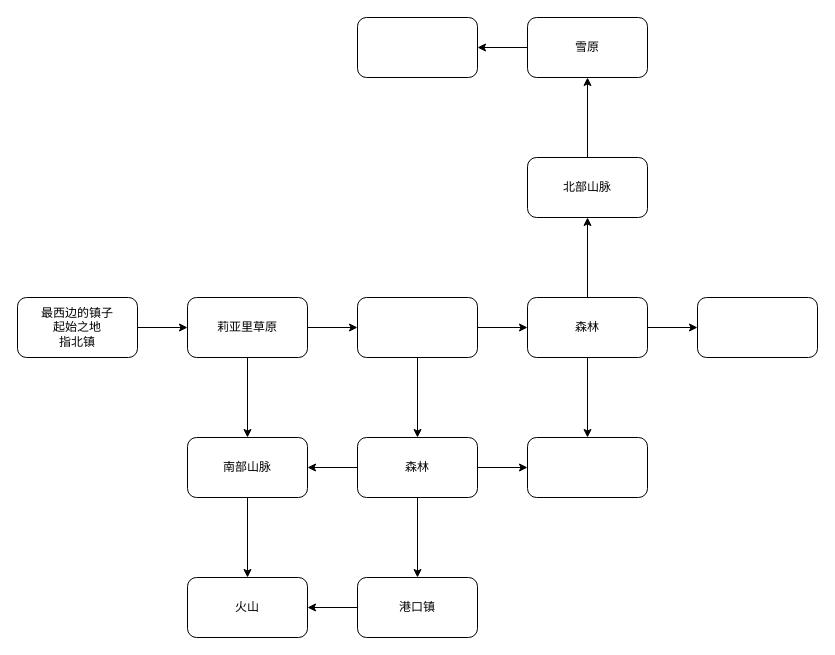
The diagram is 835 pixels wide and 655 high, and some of its shapes have lost their labels. The shapes that lost their labels are listed below. From the top down, each one's centre as x and y in pixels, then its label:
At point (417, 47): "天使的居住地".
At point (417, 327): "旧时的商业枢纽 金银镇".
At point (757, 327): "王都".
At point (587, 467): "精灵的居住地".
